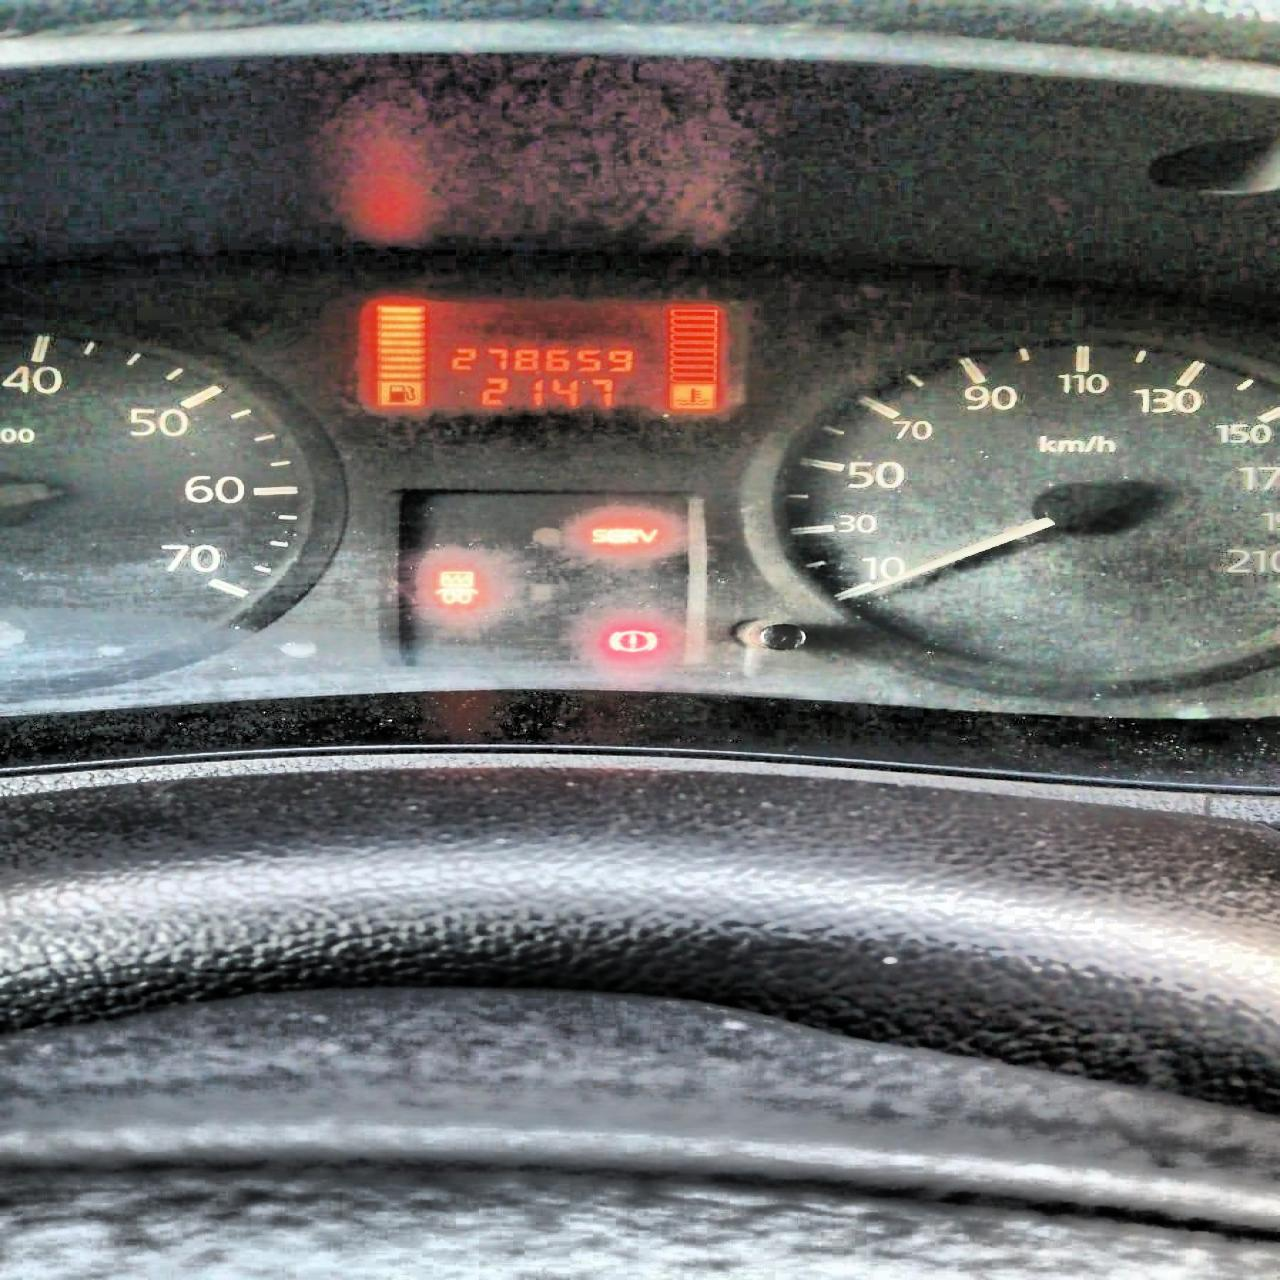1: (532, 379, 543, 404)
2: (479, 377, 509, 406), (449, 347, 476, 370)
4: (549, 379, 577, 406)
5: (574, 349, 600, 370)
6: (543, 349, 570, 372)
7: (590, 377, 613, 404), (484, 348, 508, 370)
8: (512, 348, 539, 370)
9: (606, 349, 632, 372)
odometer: (352, 293, 728, 414)
